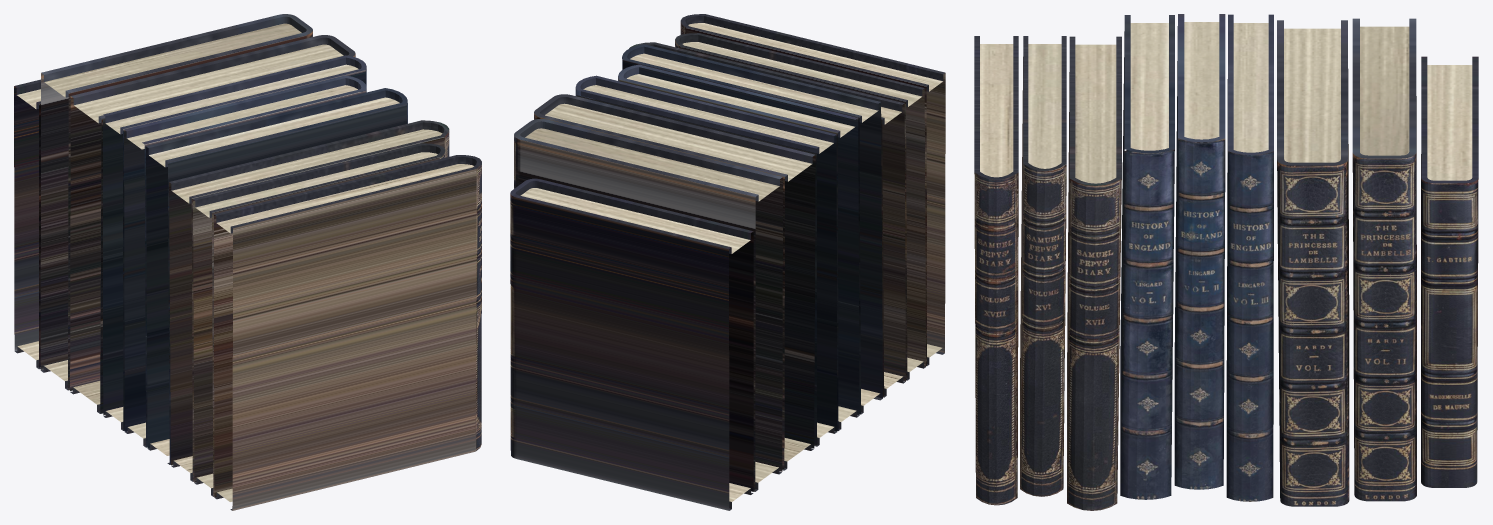
Rendered from BooksGroup04.fbx.
The picture shows the model from 3 angles, left to right: view 1: azimuth 30°, elevation 25°; view 2: azimuth 150°, elevation 25°; view 3: azimuth 270°, elevation 25°; orthographic projection. The views are drawn at different scales.
Parts seen in each view (by area): view 1: Book_pack_8; view 2: Book_pack_8; view 3: Book_pack_8.
Boxes of the visible parts, x1,y1,x2,y2 form: Book_pack_8: [14, 14, 481, 510]; Book_pack_8: [510, 14, 945, 510]; Book_pack_8: [974, 14, 1478, 510].
Size of the model in its own units: 22.95 by 24.88 by 32.7.
Materials: 2 (2 with a texture image).
